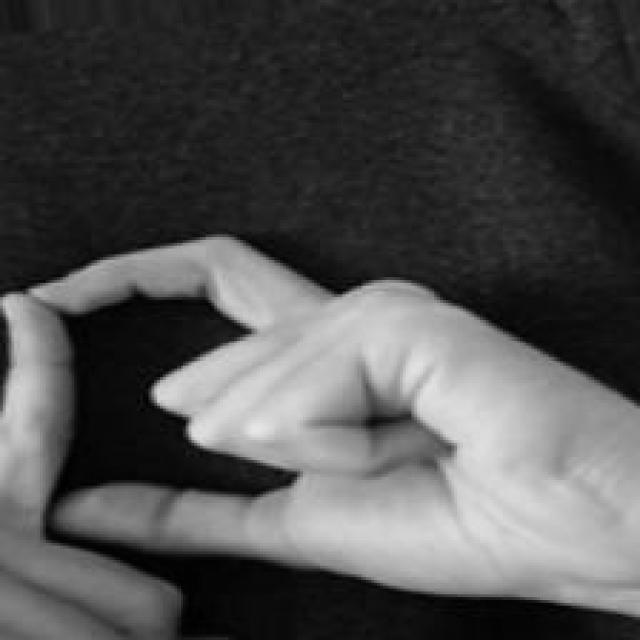D: (0, 227, 520, 640)
